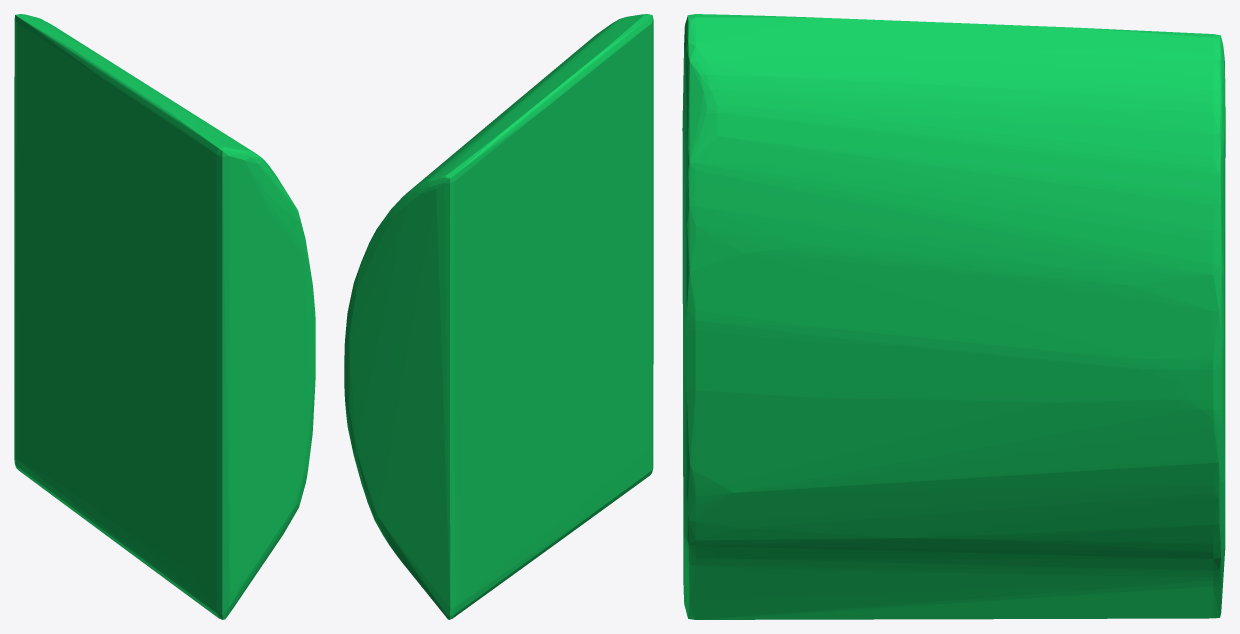
The model's file is right-shoulder-yaw-0_part_23.obj.
The picture shows the model from 3 angles, left to right: view 1: azimuth 30°, elevation 25°; view 2: azimuth 150°, elevation 25°; view 3: azimuth 270°, elevation 25°; orthographic projection. The views are drawn at different scales.
Size of the model in its own units: 0.0175 by 0.0695 by 0.0566.
